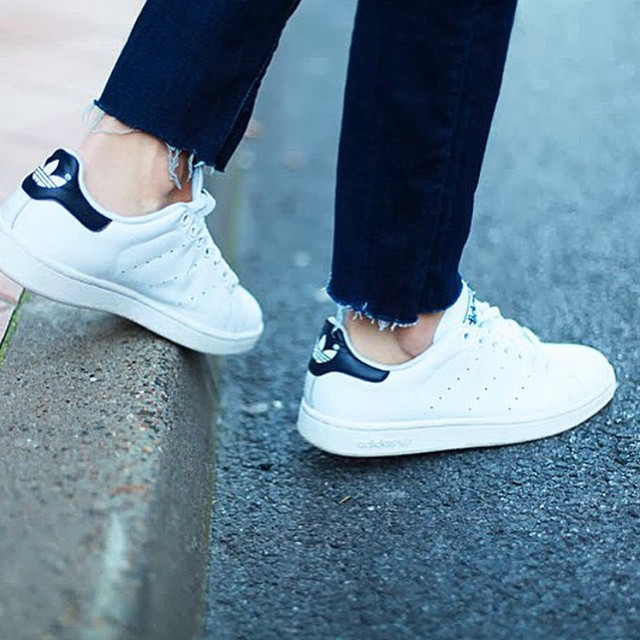sneaker: (285, 240, 627, 474), (1, 98, 272, 375)
